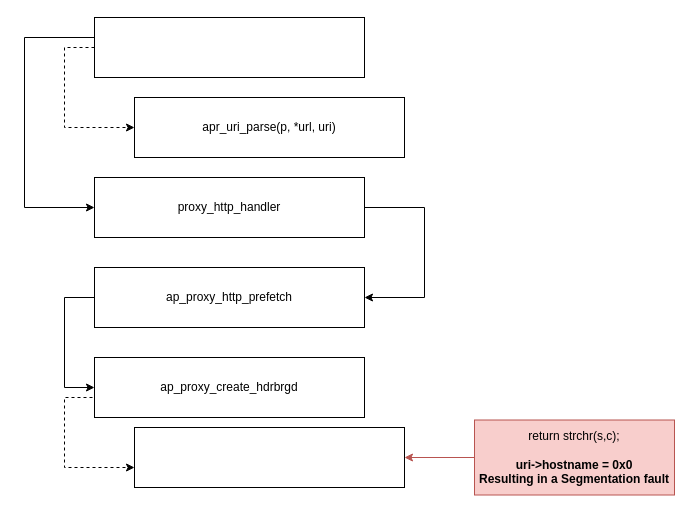
Some shapes in this 692 by 513 pixel diagram are drawn without their labels. The shapes that lost their labels are listed below. From the top down, each one's centre as x and y in pixels, then its label:
At pixel 229 47: "ap_proxy_determine_connection".
At pixel 269 457: "ap_strchr_c(uri->hostname, ':')".
